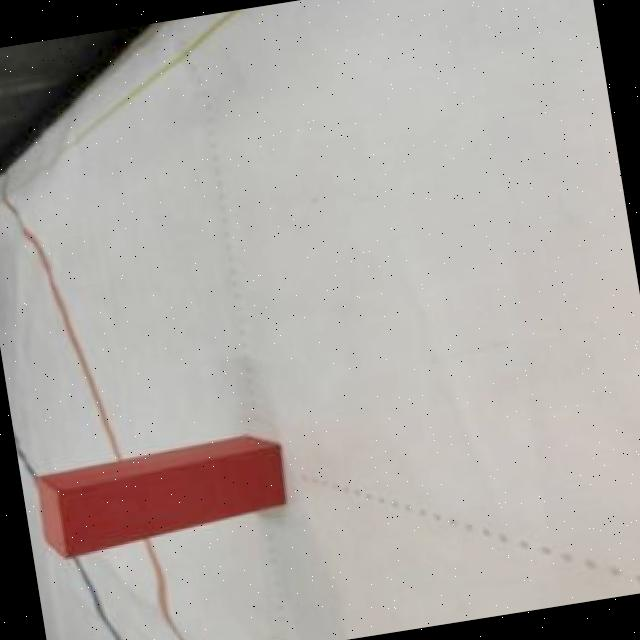redbox: (29, 426, 290, 564)
